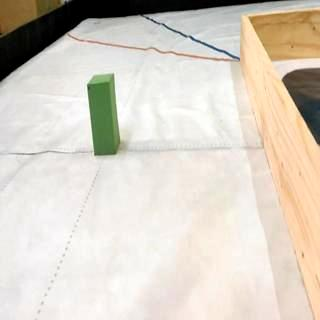greenbox: (88, 76, 121, 154)
